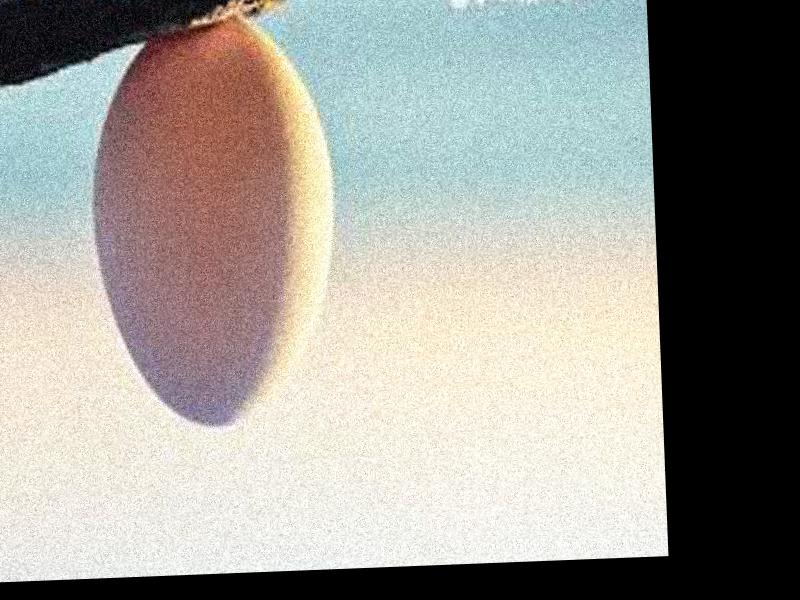Eggs: (85, 18, 343, 434)
